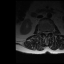CCS_normal: (45, 29, 47, 38)
LFS_stenosis: (49, 29, 51, 34)
LLS_stenosis: (47, 29, 49, 35)
RFS_stenosis: (41, 29, 43, 35)
RLS_stenosis: (43, 30, 45, 35)
